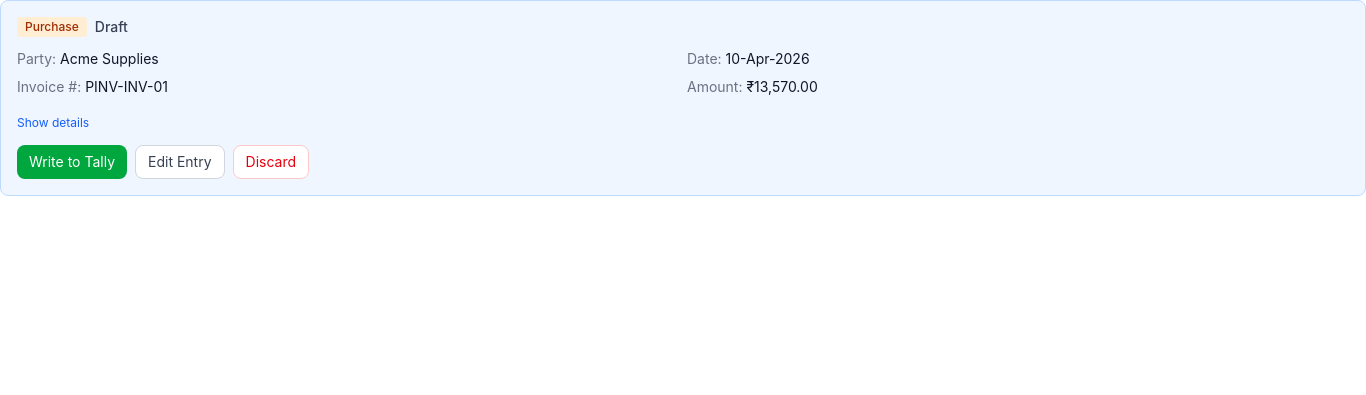
Test: VoucherReviewCard — inventory line items › renders a line-items table for an inventory entry in the expanded view
The image size is (1366, 395).
Click the button "Show details". click: click(53, 123)
box: [17,115,89,131]
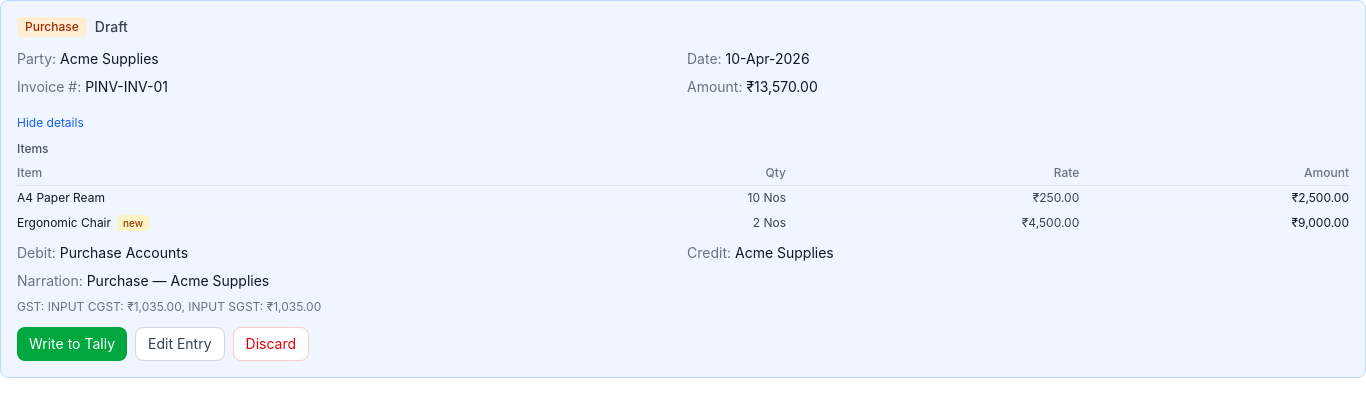
Expected: the column heading "Item" is shown, [17,161,577,186]
Expected: the column heading "Qty" is shown, [577,161,794,186]
Expected: the column heading "Rate" is shown, [794,161,1087,186]
